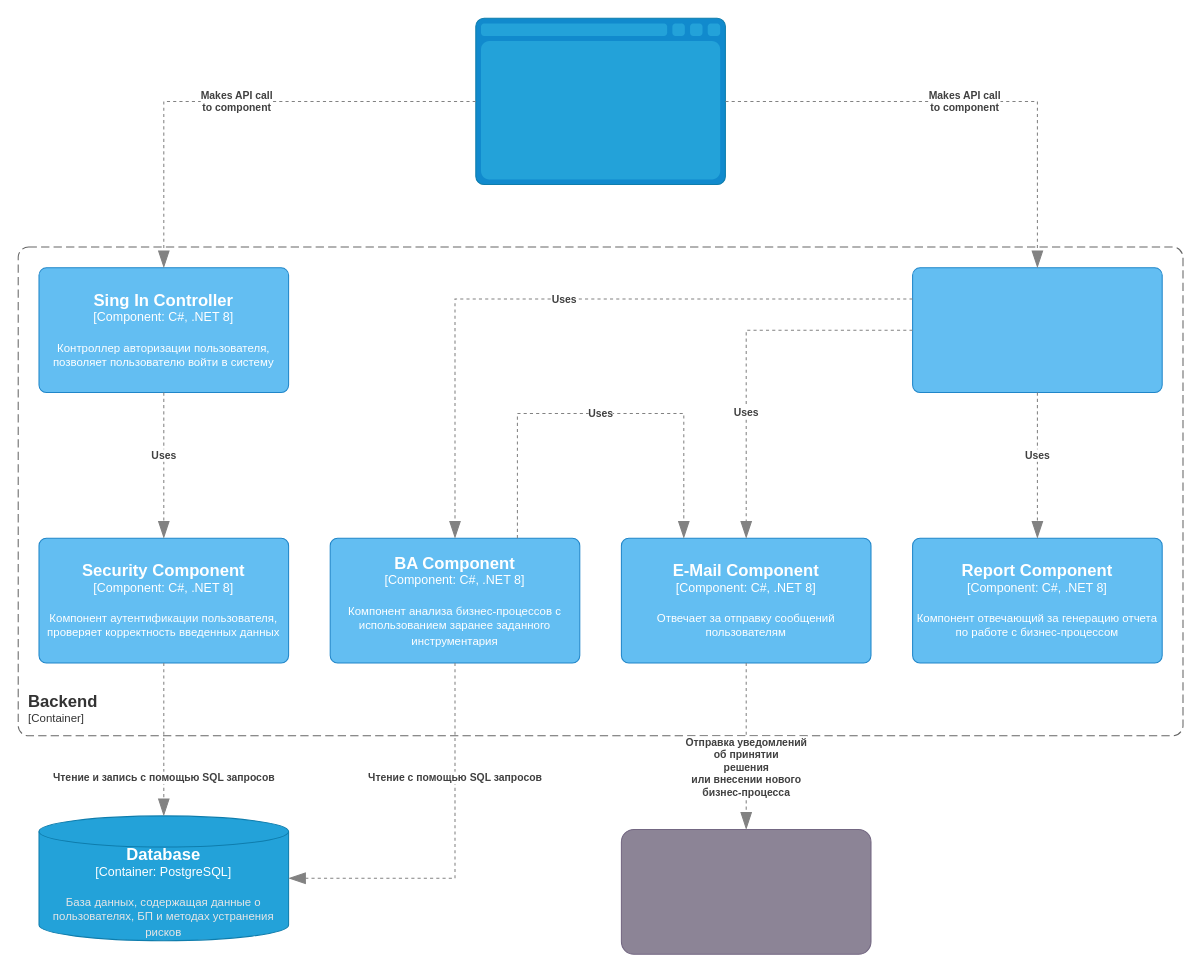
Some shapes in this 1201 by 972 pixel diagram are drawn without their labels. Each missing label, with the centre of its shape:
"BP Controller [Component: С#, .NET 8] Контроллер работы с бизнес-процессами" belongs at pixel 1037 330.
"Desktop Application [Container: C#, .NET 8, WPF] Декстоп-клиент приложения" belongs at pixel 600 101.
"E-Mail System [Software System] Используется для обмена информацией" belongs at pixel 745 891.
